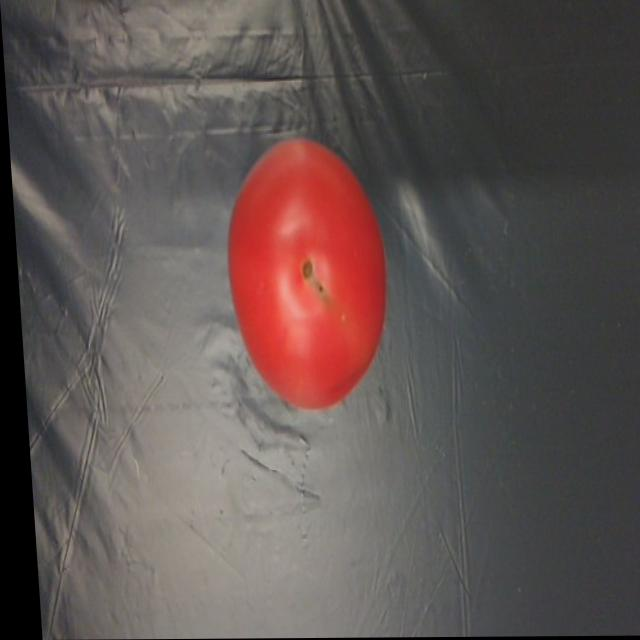kirmizi: (208, 127, 404, 420)
